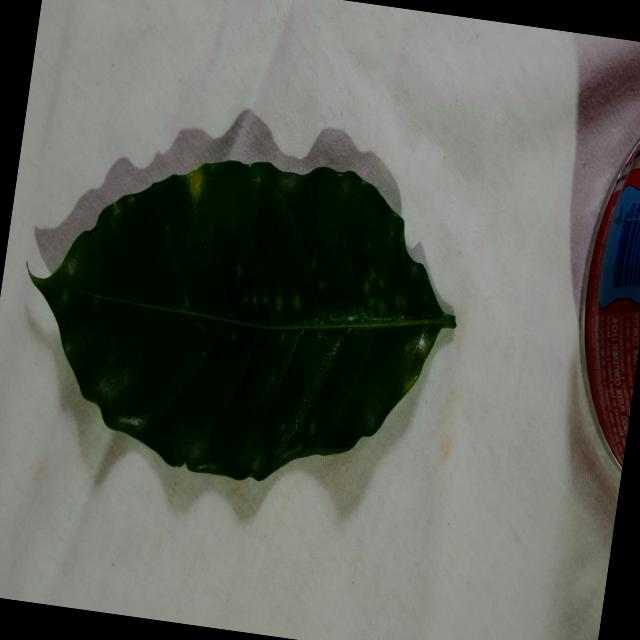KaratDaunKopi: (188, 168, 204, 204), (394, 295, 406, 309), (293, 293, 301, 311), (275, 295, 282, 312), (310, 421, 316, 434), (379, 301, 385, 314), (378, 278, 385, 289), (62, 291, 68, 303), (231, 331, 237, 342), (364, 282, 369, 294), (253, 294, 258, 306), (311, 259, 316, 270), (237, 265, 242, 275), (319, 281, 324, 291), (370, 270, 375, 279), (244, 296, 248, 304), (263, 297, 267, 304), (365, 291, 368, 293)
